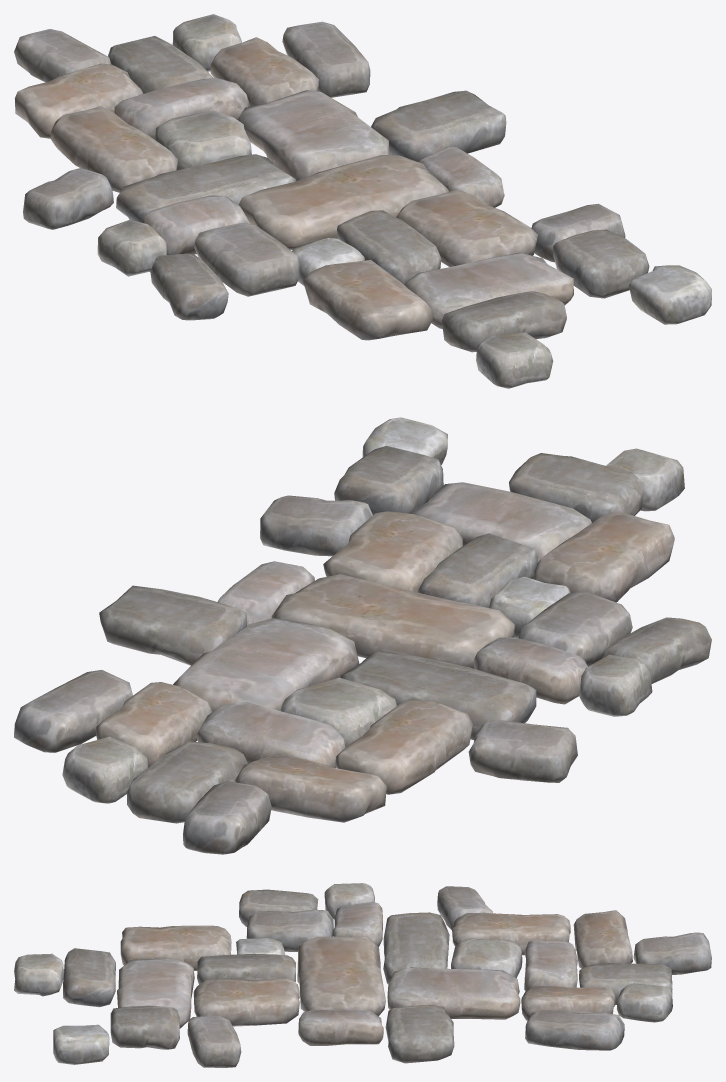
3 views of the same model, one above another, from view 1: azimuth 30°, elevation 25°; view 2: azimuth 150°, elevation 25°; view 3: azimuth 270°, elevation 25° (orthographic). The views are drawn at different scales.
Visible parts, largest first — view 1: SM_Pavement_01_LOD0; view 2: SM_Pavement_01_LOD0; view 3: SM_Pavement_01_LOD0.
Part boxes in pixels (x1,y1,x2,y2): SM_Pavement_01_LOD0: [14, 14, 711, 388]; SM_Pavement_01_LOD0: [14, 417, 711, 854]; SM_Pavement_01_LOD0: [14, 883, 711, 1067].
Size of the model in its own units: 2.31 by 0.229 by 4.13.
Materials: 1 (1 with a texture image).
